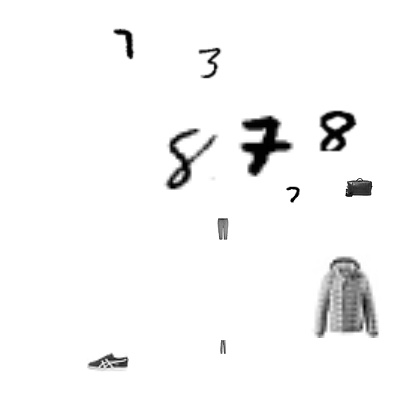3: (190, 39, 232, 81)
7: (221, 98, 305, 182), (106, 20, 148, 62), (283, 182, 305, 204)
8: (140, 117, 224, 201), (308, 101, 364, 157)
Bag: (345, 174, 373, 202)
Coat: (303, 254, 387, 338)
Sneaker: (87, 341, 129, 383)
Trouser: (212, 218, 234, 240), (216, 340, 230, 354)
